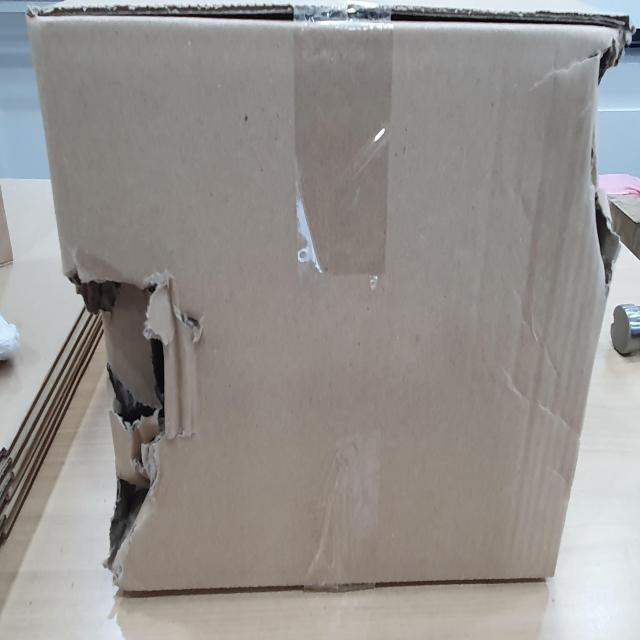damaged: (61, 250, 217, 593), (572, 19, 634, 287)
